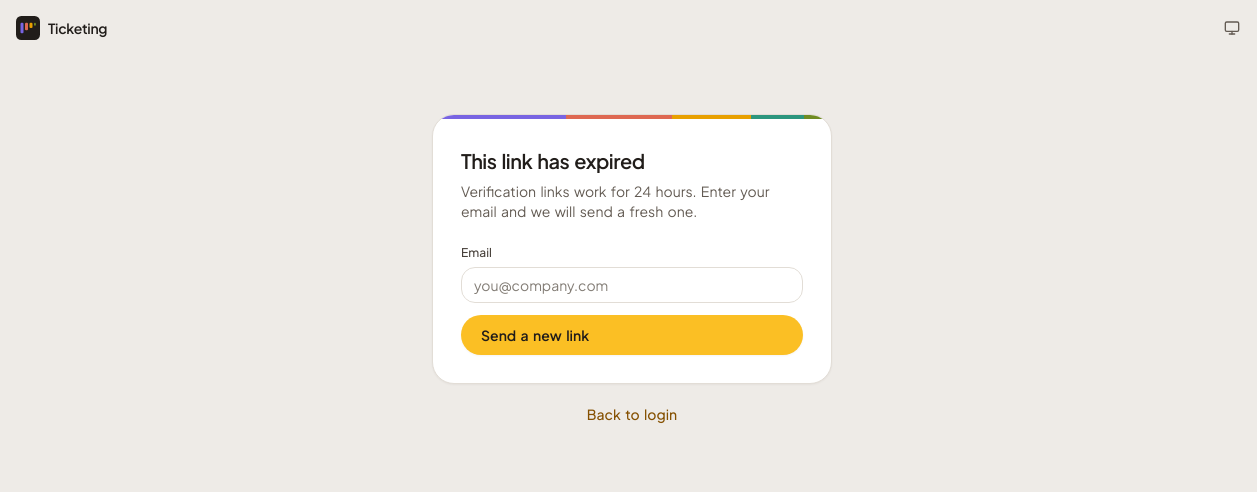
Test case: VerifyPage › explains an expired link and offers to resend
Check: the heading "This link has expired" is shown, box [461,148,645,173]
Type "a@example.com" into the field labelled "Email". click: (632, 285)
box: [461,267,803,303]
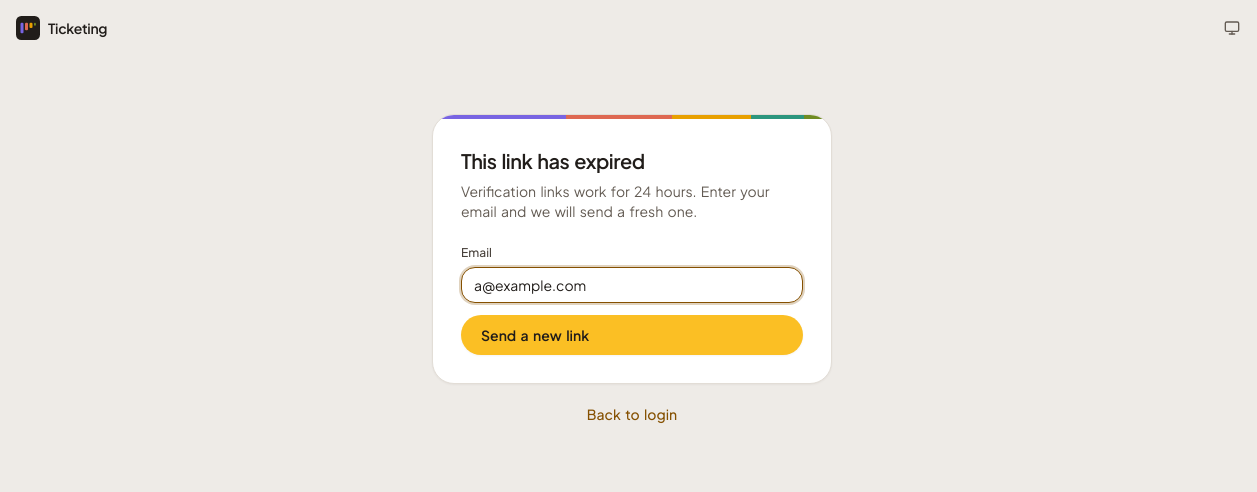
Click the button "Send a new link". click: (535, 335)
box: [461,315,803,355]
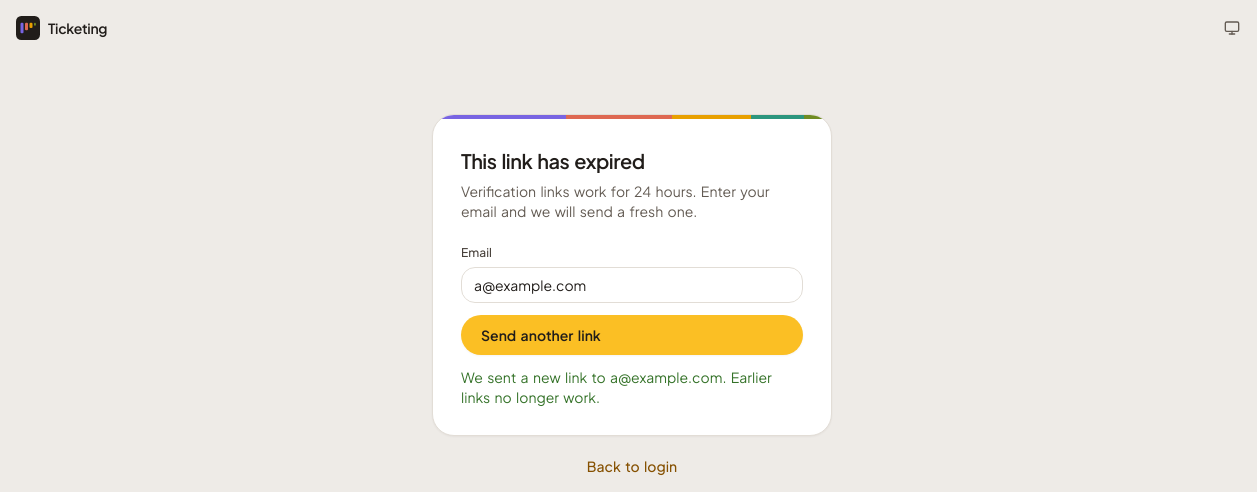
Check: the text "We sent a new link to a@example.com. Earlier links no longer work." is shown, box [461,367,803,407]
